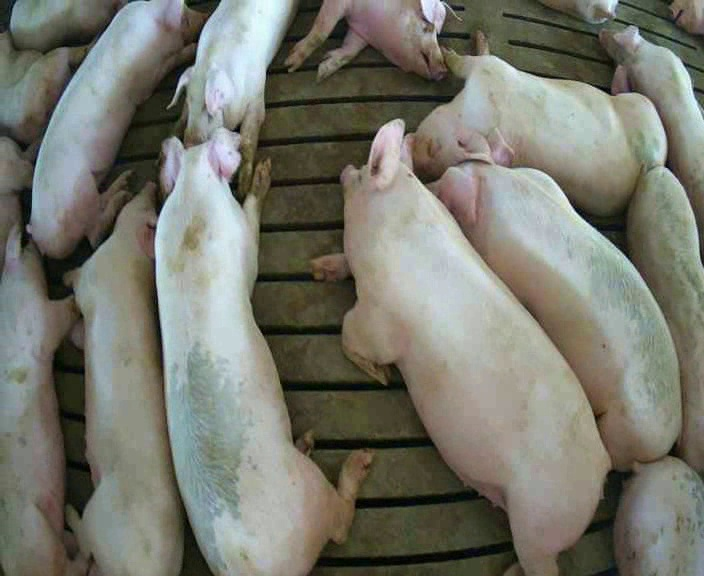pig: (313, 120, 609, 573), (156, 128, 371, 574), (430, 129, 680, 469), (62, 183, 182, 575), (414, 31, 664, 215), (30, 2, 205, 257), (0, 225, 88, 575), (599, 26, 703, 258), (628, 166, 703, 474), (285, 1, 462, 80), (614, 456, 703, 574)
